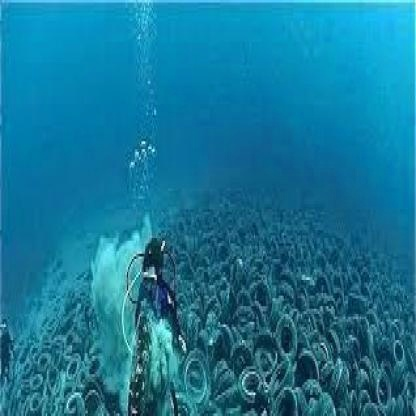tire: (178, 346, 222, 408), (50, 356, 94, 405), (281, 343, 323, 392), (249, 285, 286, 335), (241, 366, 272, 403)
